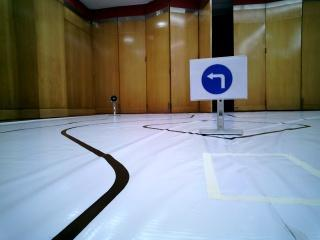left: (190, 62, 239, 99)
